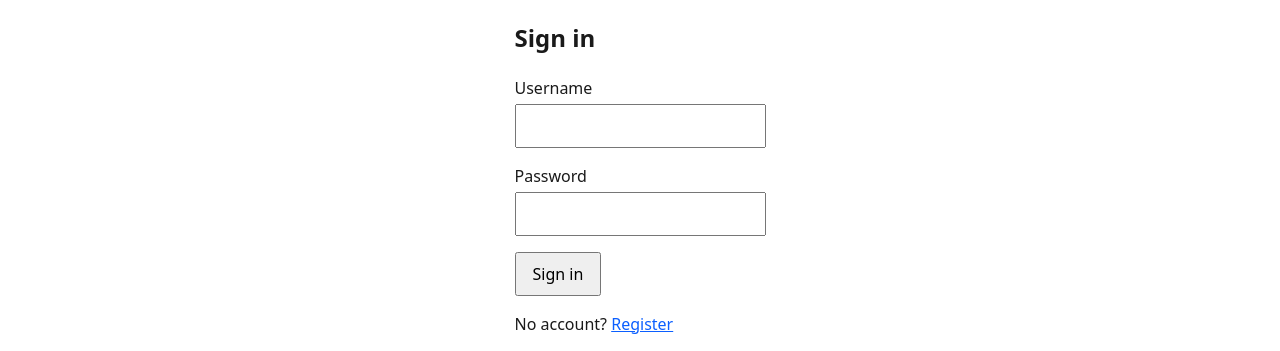
Test: LoginPage › stores the token pair through the API client and lands on the active-parking home screen on success
Type "alice" into the field labelled "Username" at (640, 126), box x1=514 y1=104 x2=766 y2=148
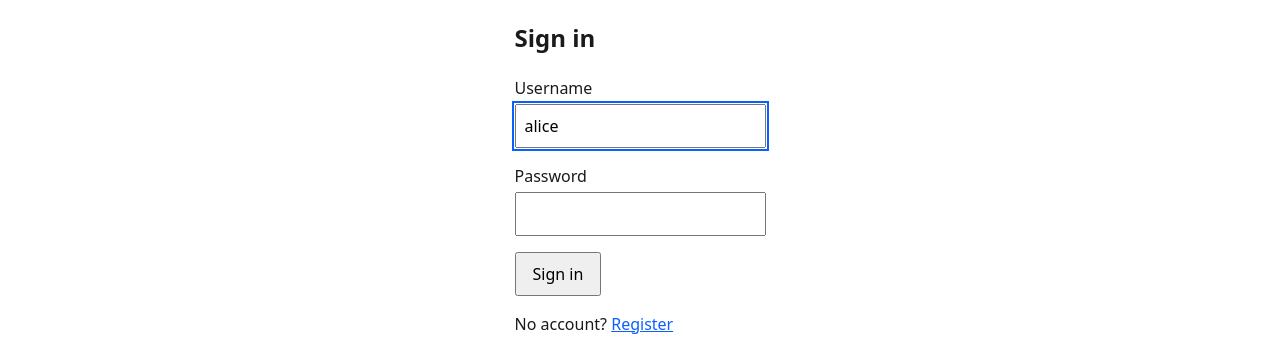
Type "secret123" into the password field labelled "Password" at (640, 214), box x1=514 y1=192 x2=766 y2=236
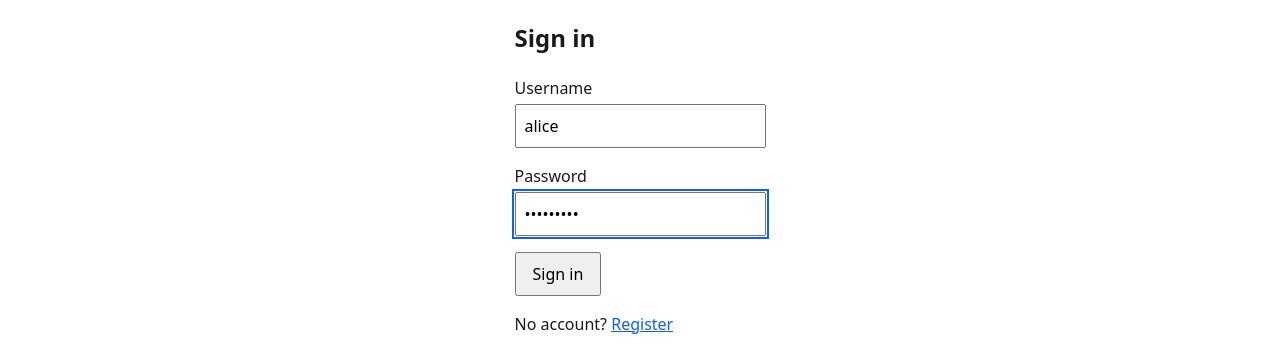
Click the button "Sign in" at (558, 274), box x1=514 y1=252 x2=601 y2=296
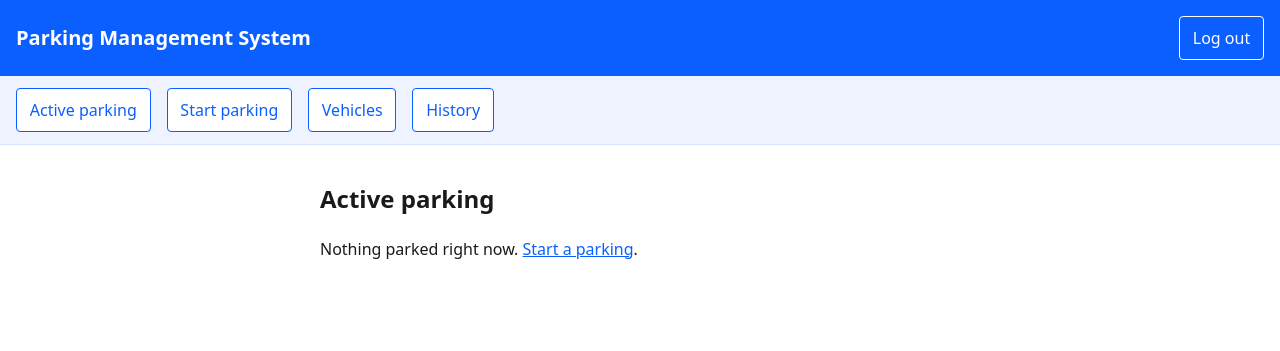
Check: the heading "Active parking" is shown, box x1=320 y1=182 x2=494 y2=215
